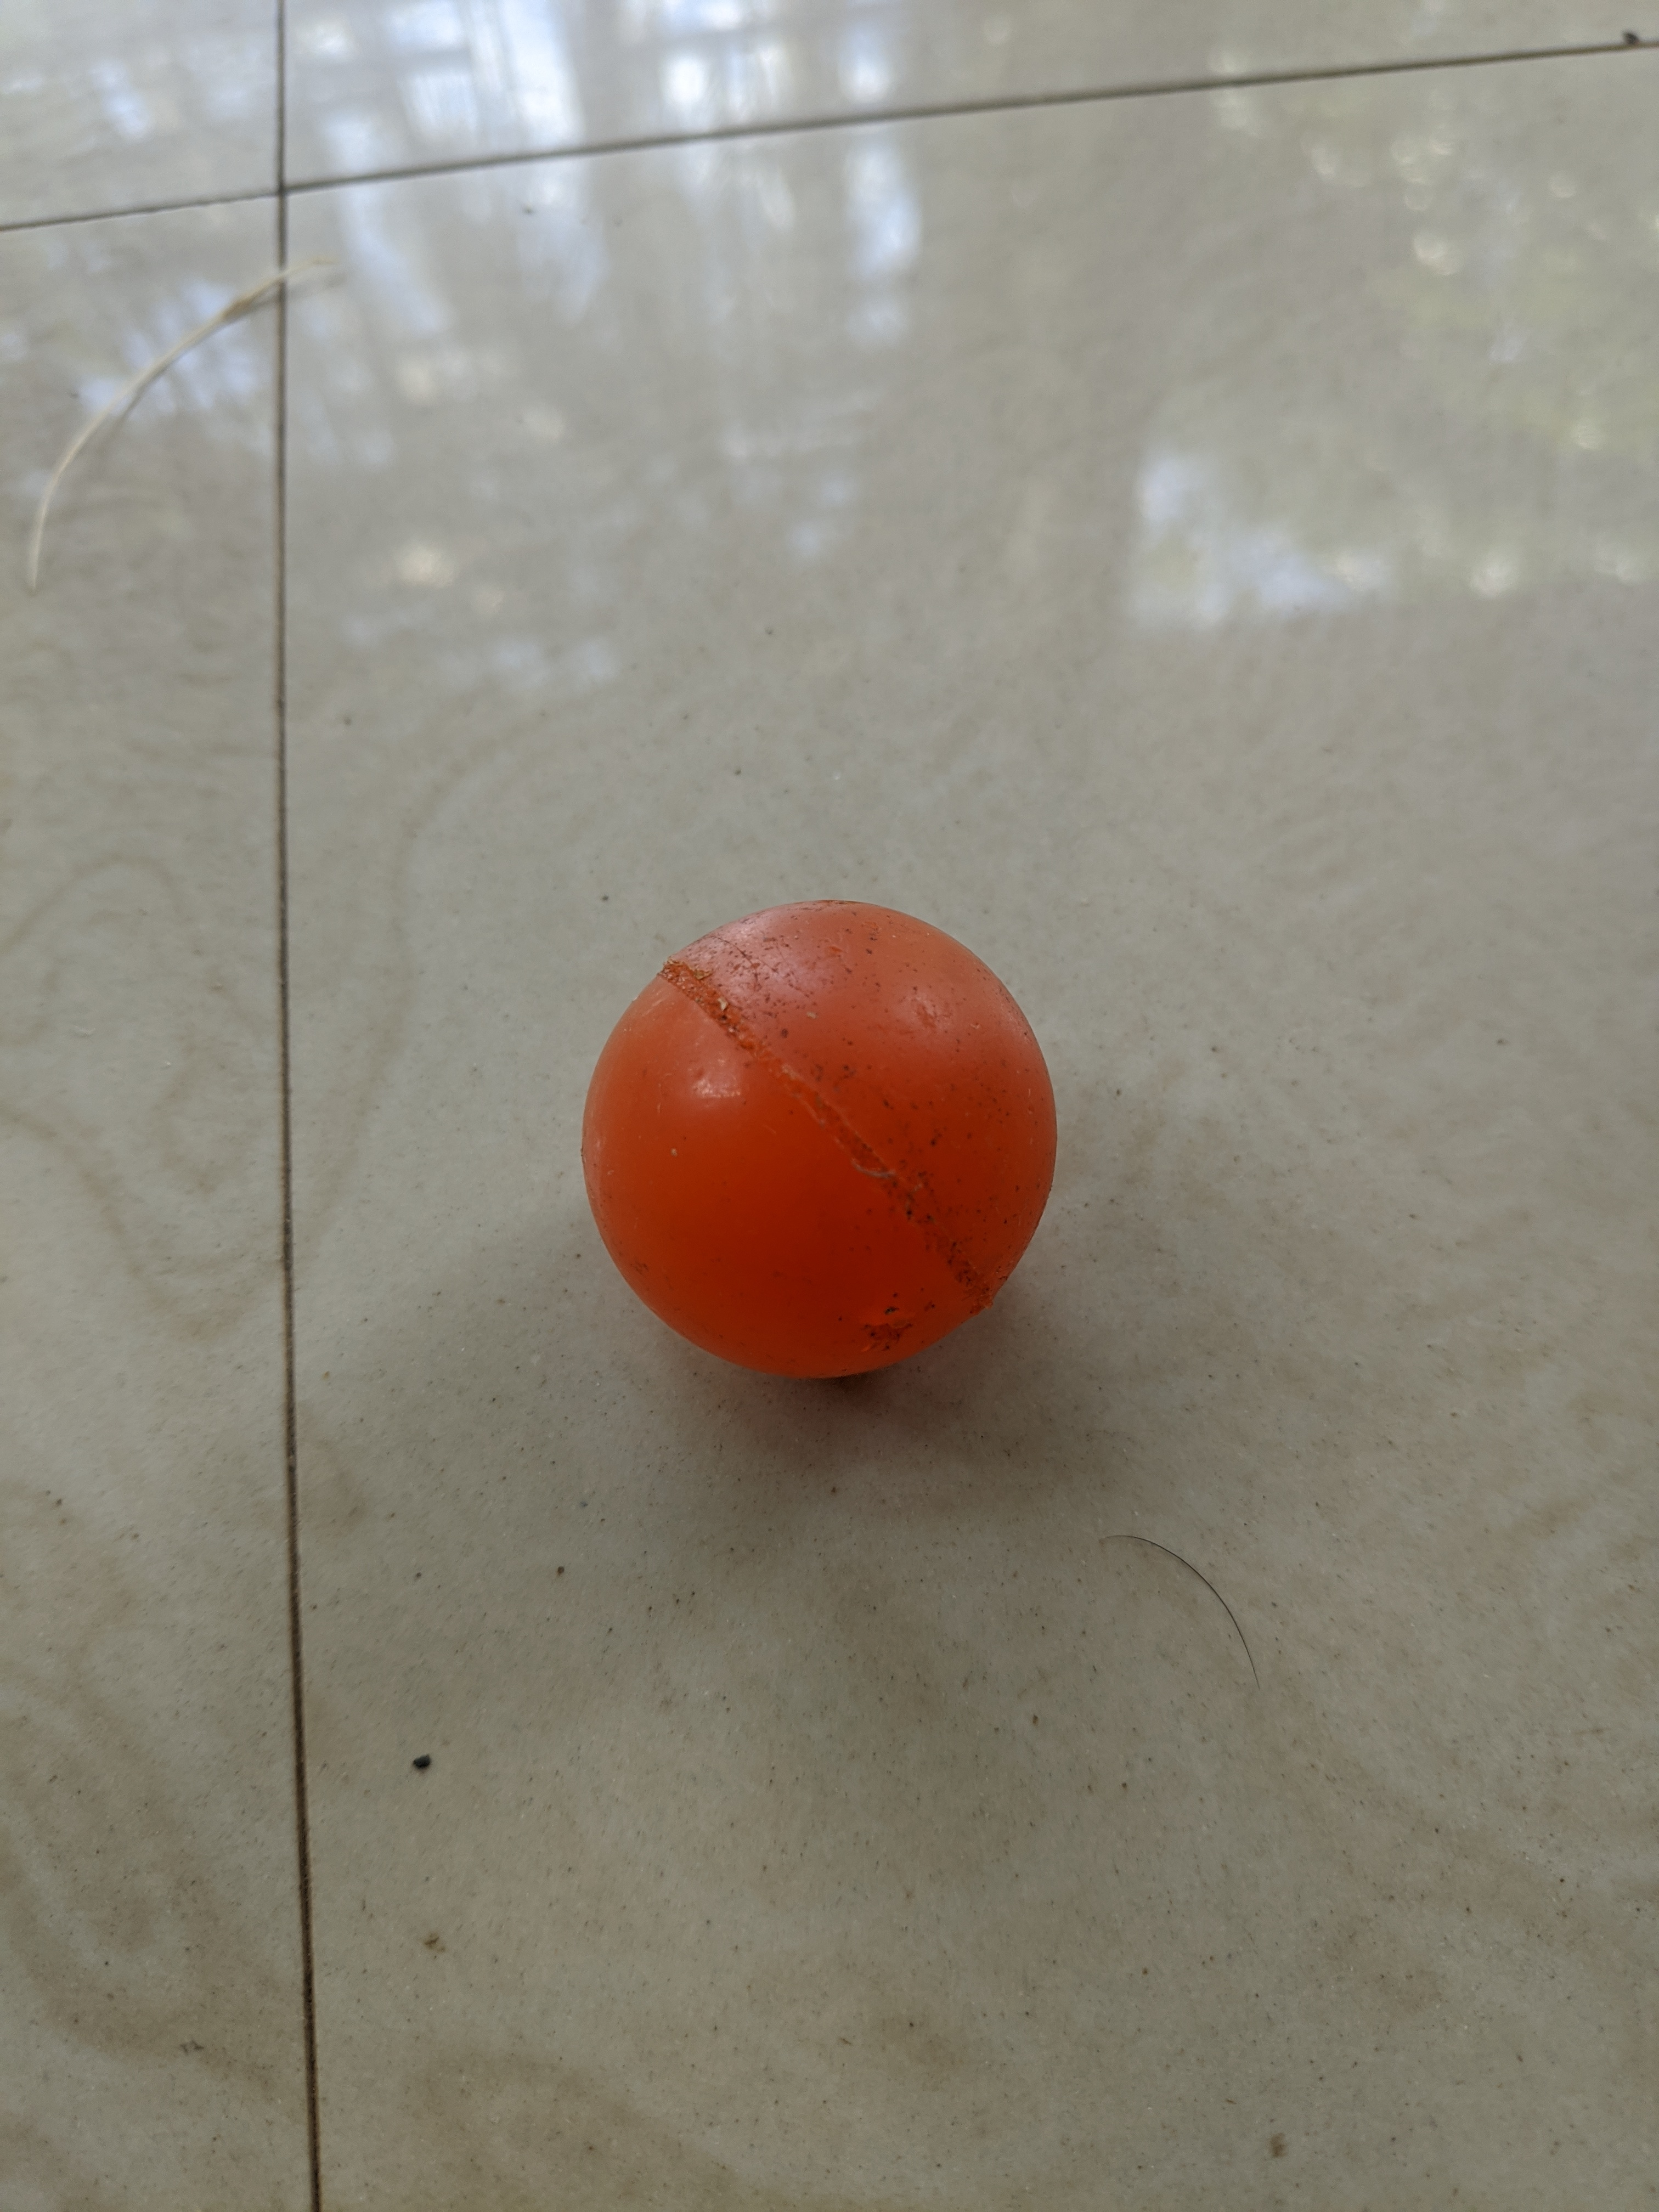red_ball: (563, 866, 1086, 1390)
